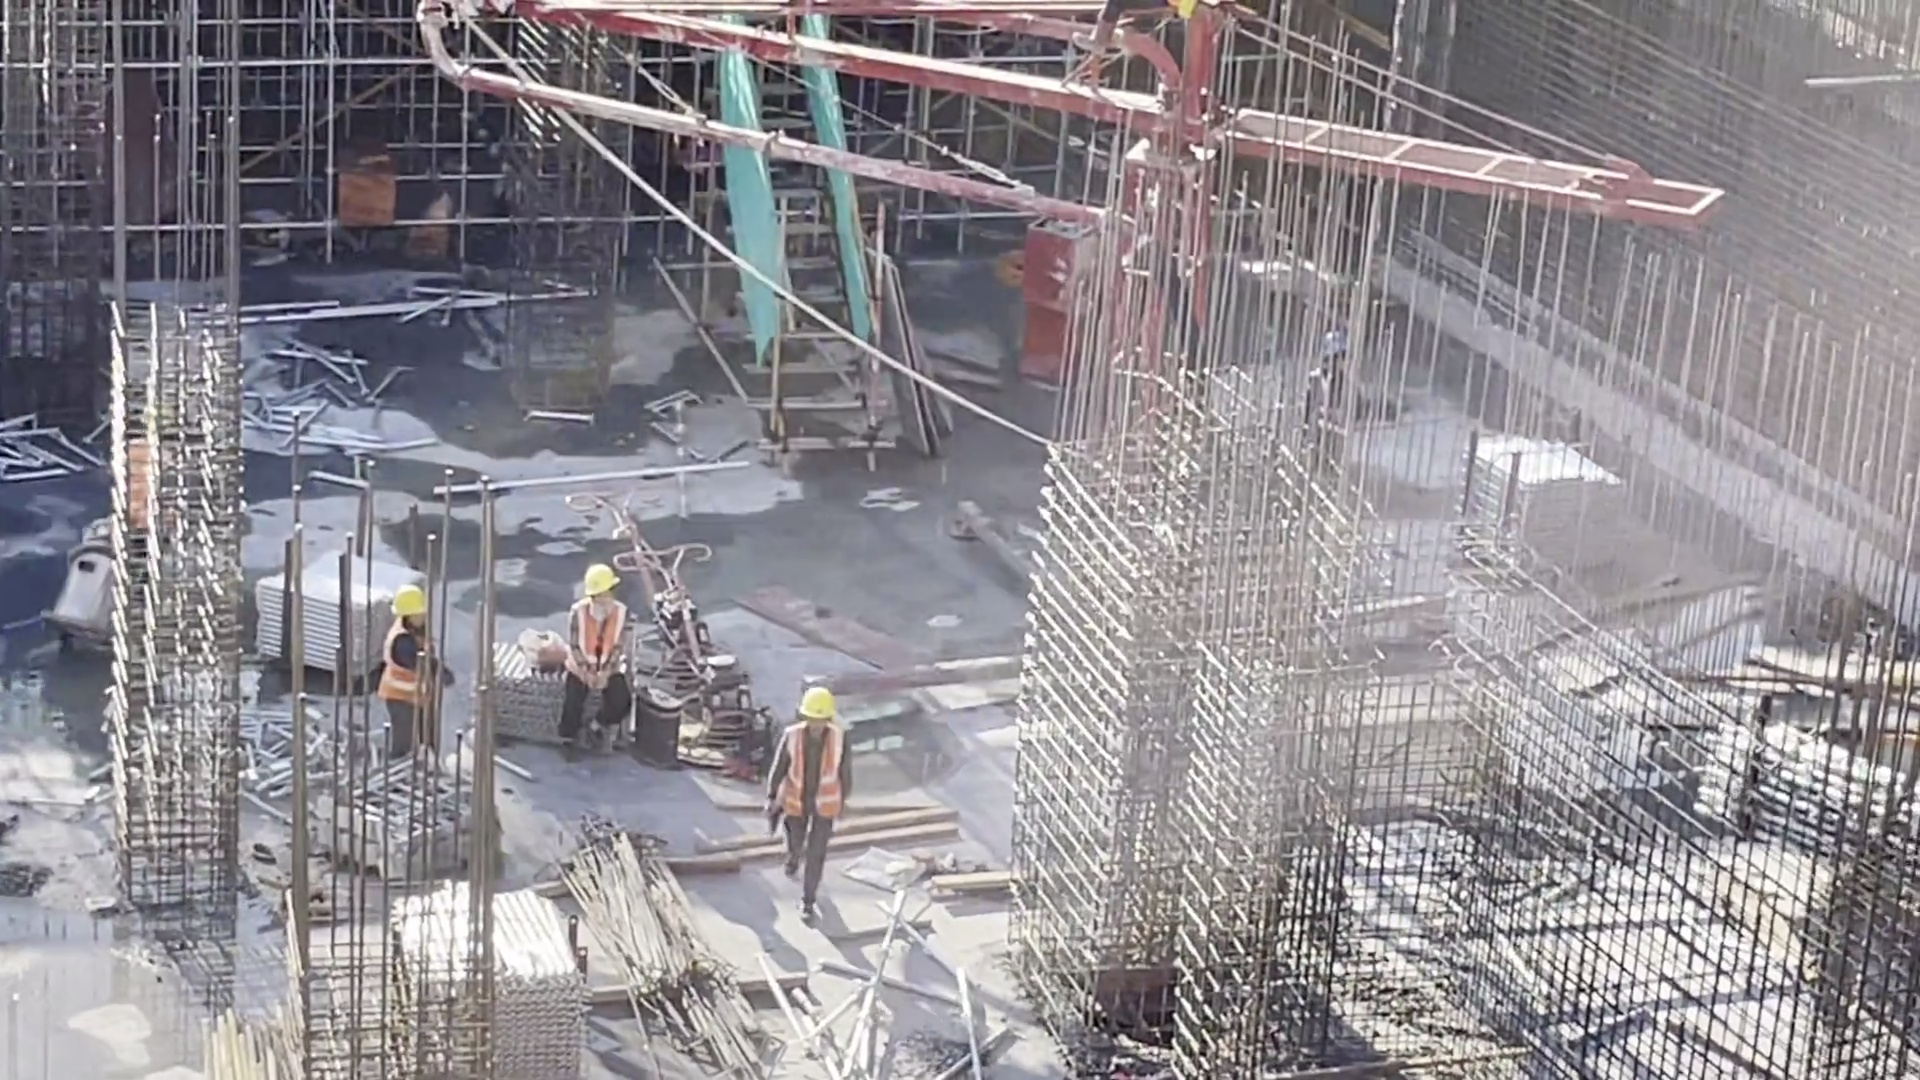helmet: (580, 557, 636, 593), (1310, 332, 1358, 365), (804, 694, 854, 722), (389, 583, 434, 615)
person: (762, 682, 851, 916), (362, 580, 459, 794), (1297, 313, 1378, 492), (564, 558, 634, 757)
vest: (779, 721, 849, 830), (560, 602, 628, 688), (382, 622, 431, 708), (1310, 371, 1354, 446)
